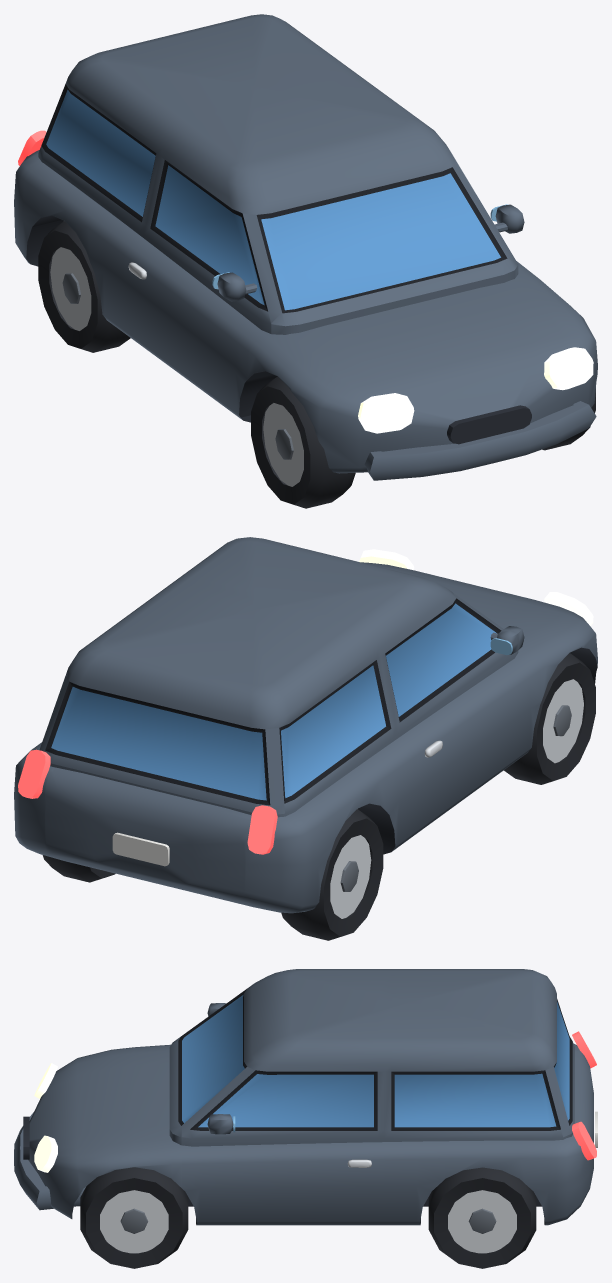
Rendered from compacto_cinza.glb.
The picture shows the model from 3 angles, top to bottom: view 1: azimuth 30°, elevation 25°; view 2: azimuth 150°, elevation 25°; view 3: azimuth 270°, elevation 25°; orthographic projection. The views are drawn at different scales.
Parts seen in each view (by area): view 1: compacto_cinza, porta_dianteira_esq, roda_dianteira_esq, roda_traseira_esq, porta_dianteira_dir; view 2: compacto_cinza, tampa_traseira, porta_dianteira_esq, roda_traseira_esq, roda_dianteira_esq, roda_traseira_dir; view 3: compacto_cinza, porta_dianteira_dir, roda_dianteira_dir, roda_traseira_dir, tampa_traseira.
Part boxes in pixels (bbox=[...]): compacto_cinza: bbox=[14, 14, 597, 480]; porta_dianteira_esq: bbox=[123, 157, 281, 417]; roda_dianteira_esq: bbox=[251, 377, 355, 508]; roda_traseira_esq: bbox=[38, 221, 130, 352]; porta_dianteira_dir: bbox=[453, 161, 533, 274]; compacto_cinza: bbox=[14, 537, 597, 913]; tampa_traseira: bbox=[39, 660, 391, 874]; porta_dianteira_esq: bbox=[381, 593, 542, 833]; roda_traseira_esq: bbox=[281, 809, 383, 940]; roda_dianteira_esq: bbox=[504, 653, 595, 784]; roda_traseira_dir: bbox=[42, 855, 115, 882]; compacto_cinza: bbox=[14, 969, 597, 1225]; porta_dianteira_dir: bbox=[182, 1067, 384, 1223]; roda_dianteira_dir: bbox=[80, 1167, 188, 1268]; roda_traseira_dir: bbox=[428, 1167, 536, 1268]; tampa_traseira: bbox=[391, 999, 593, 1172].
Bounding box in the file's own units: 1.86 × 1.54 × 3.81.
Materials: 4 (1 with a texture image).
